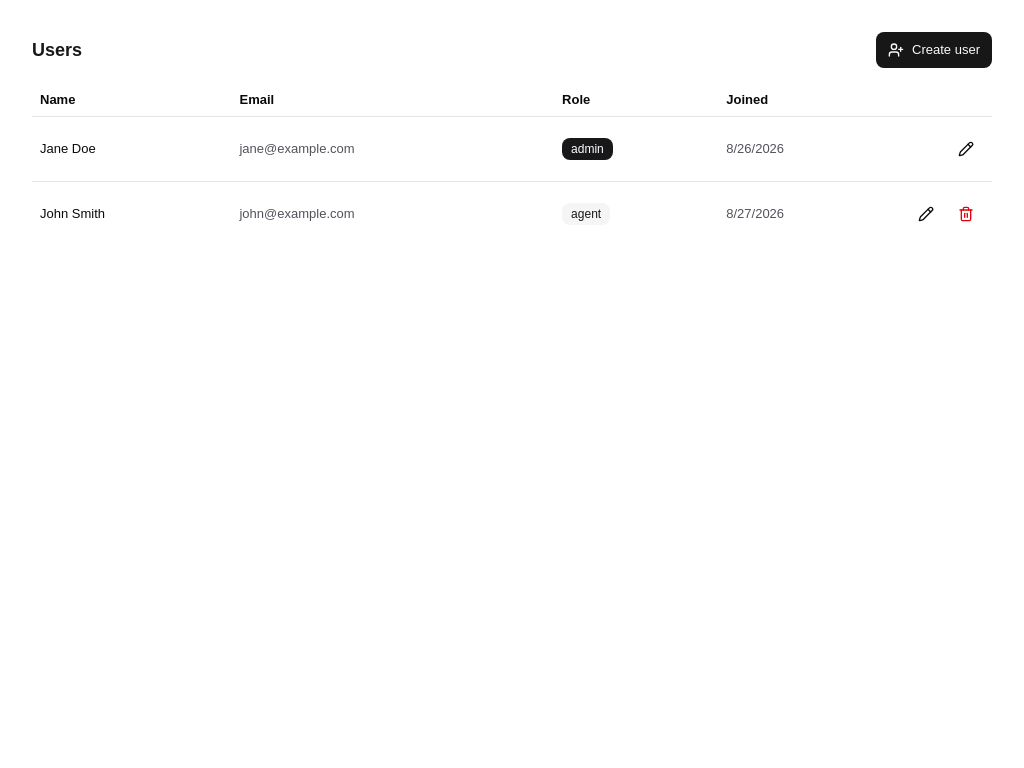
Test: Users › shows a server error when creation fails
Expected: the cell "Jane Doe" is shown, [32, 116, 232, 181]
Click the button "Create user": (934, 50) [876, 32, 992, 68]
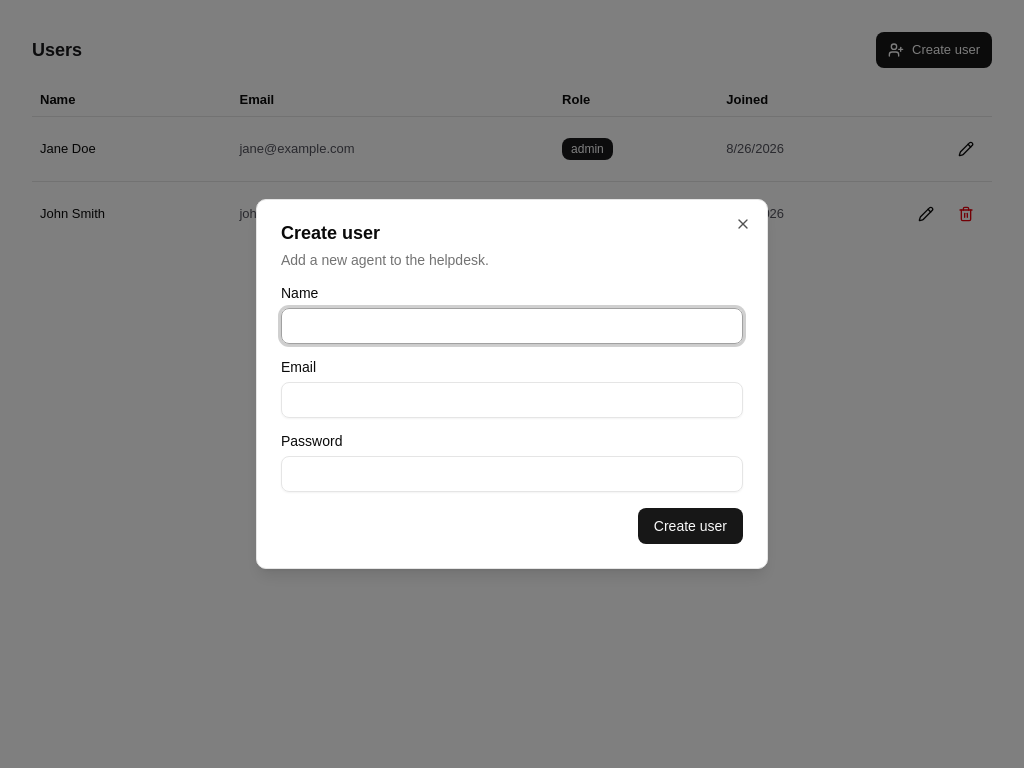
In the field labelled "Name": (512, 326) [281, 308, 743, 344], type "Alice Wong"
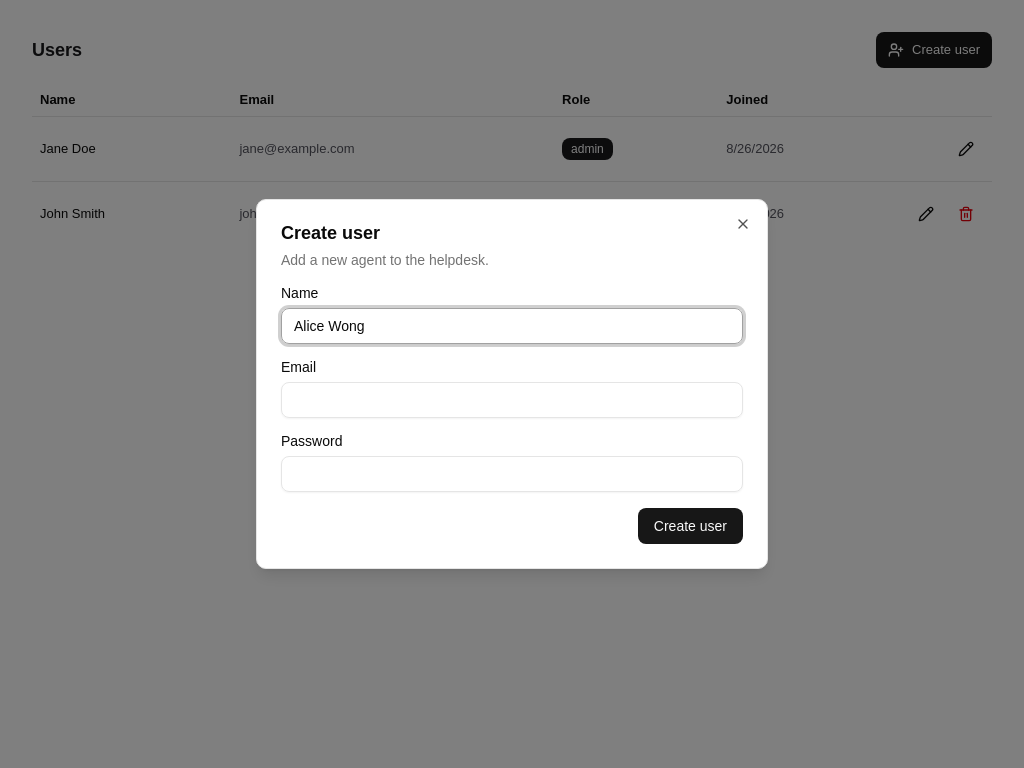
In the field labelled "Email": (512, 400) [281, 382, 743, 418], type "alice@example.com"
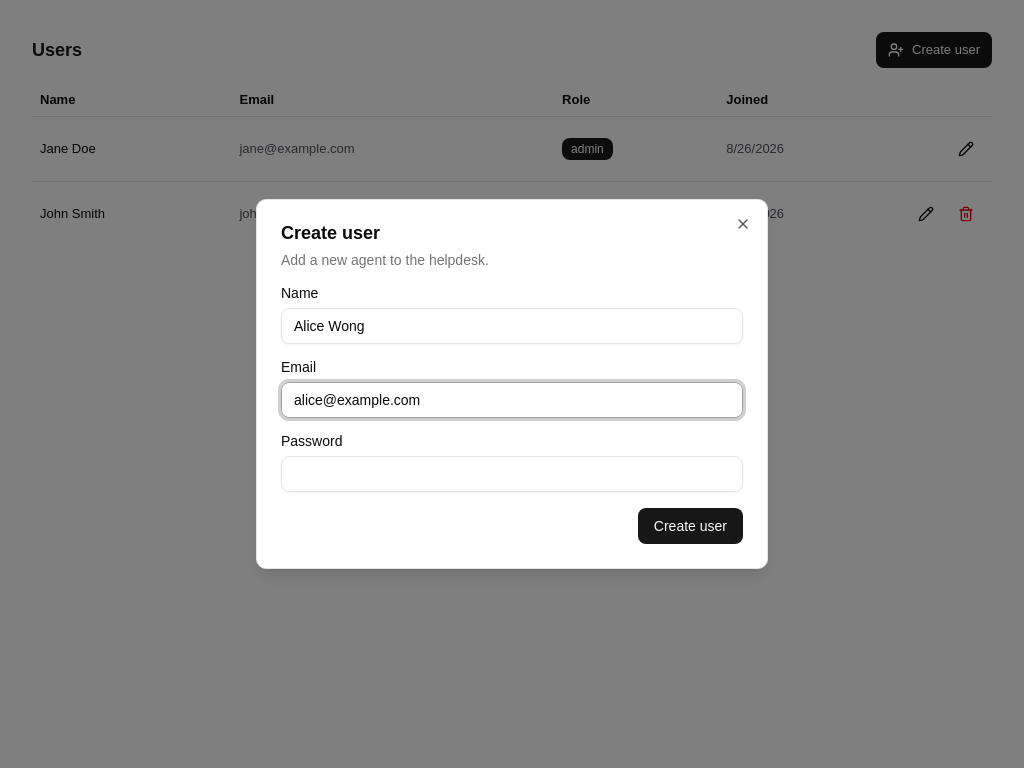
In the password field labelled "Password": (512, 474) [281, 456, 743, 492], type "password123"
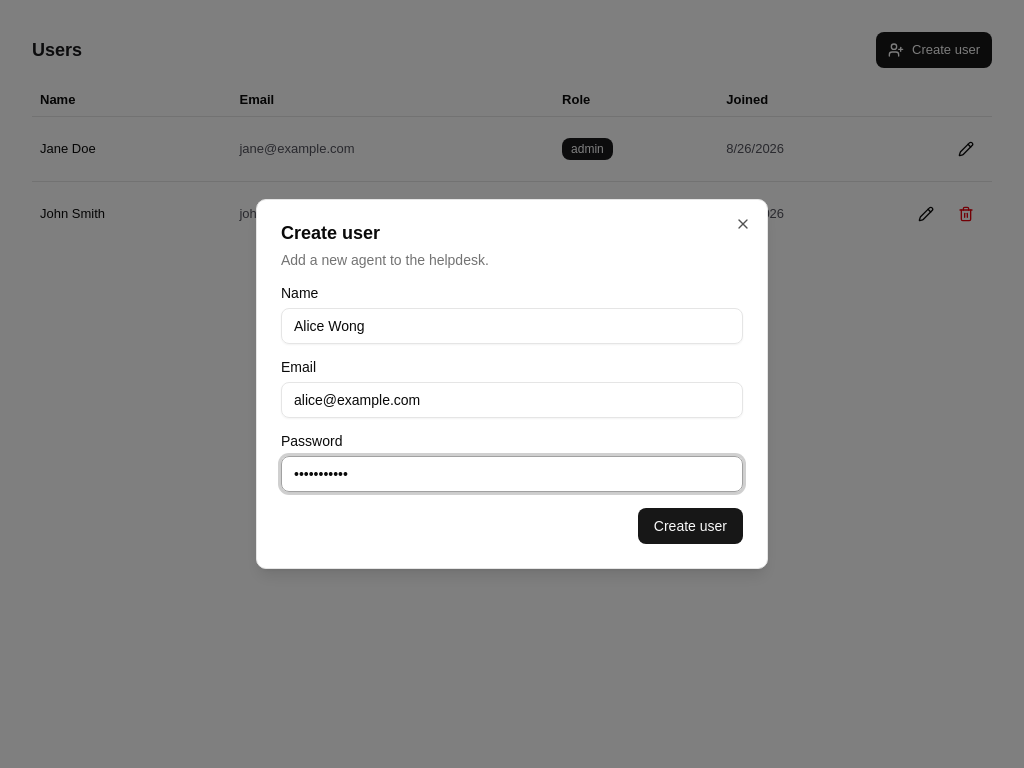
Click the button "Create user": (690, 526) [638, 508, 743, 544]
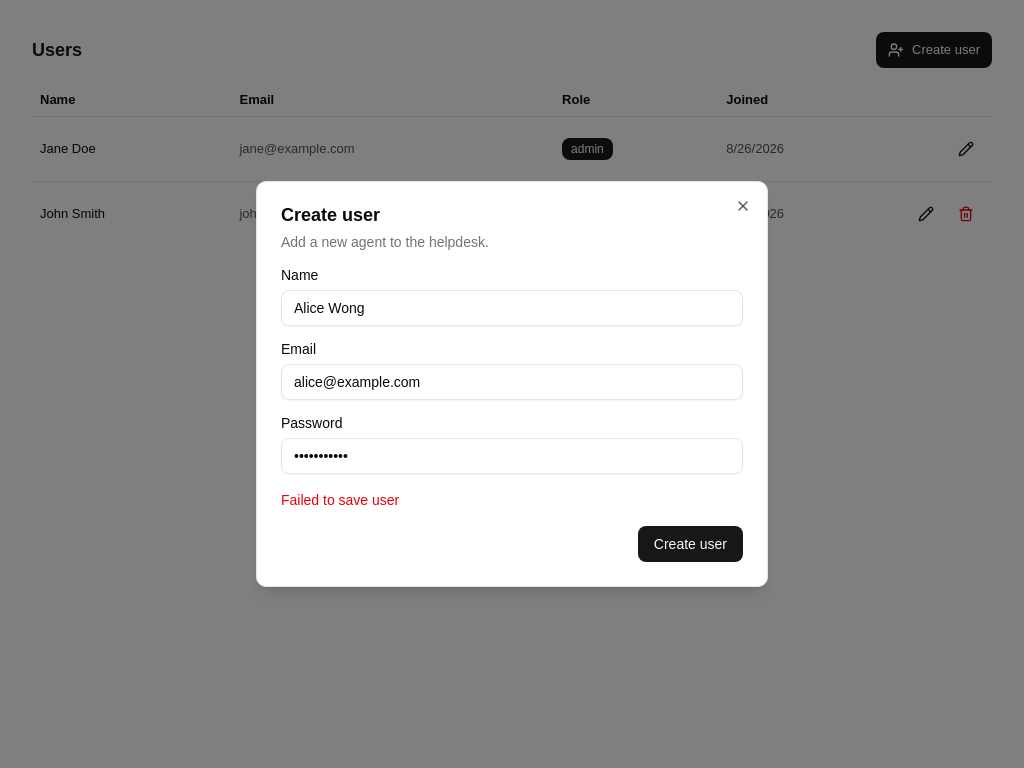
Expected: the dialog is shown, [256, 181, 768, 587]
Expected: the text "Failed to save user" is shown, [281, 492, 399, 508]
